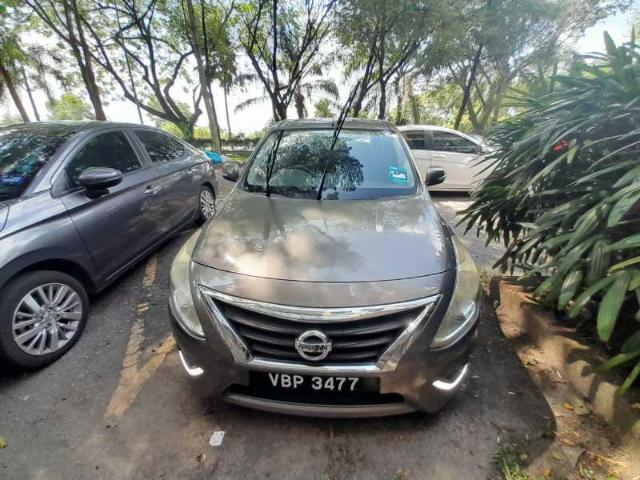License_Plate: (264, 371, 382, 395)
car: (168, 118, 482, 421)
